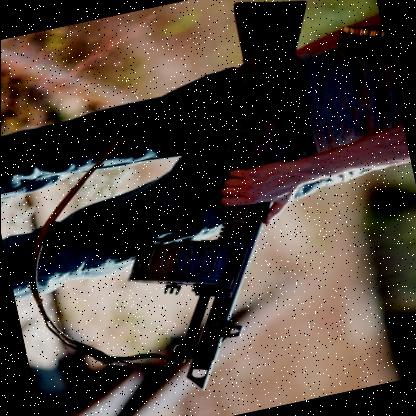rifle: (63, 0, 386, 405)
